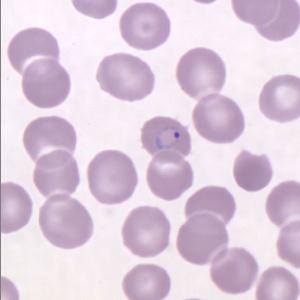Infected: (141, 115, 189, 161)
Uninfected: (38, 193, 95, 247), (176, 45, 228, 104), (177, 211, 231, 266), (87, 148, 139, 205), (7, 26, 59, 81), (22, 116, 77, 168), (95, 53, 154, 101), (120, 3, 173, 51), (193, 93, 244, 141), (121, 207, 169, 256), (35, 149, 79, 201), (22, 57, 68, 106), (208, 247, 257, 293), (185, 185, 234, 231), (146, 152, 192, 200), (258, 75, 300, 124), (252, 0, 300, 41), (0, 180, 33, 235), (121, 266, 173, 300), (235, 146, 272, 192), (267, 183, 300, 228), (256, 266, 298, 300)
